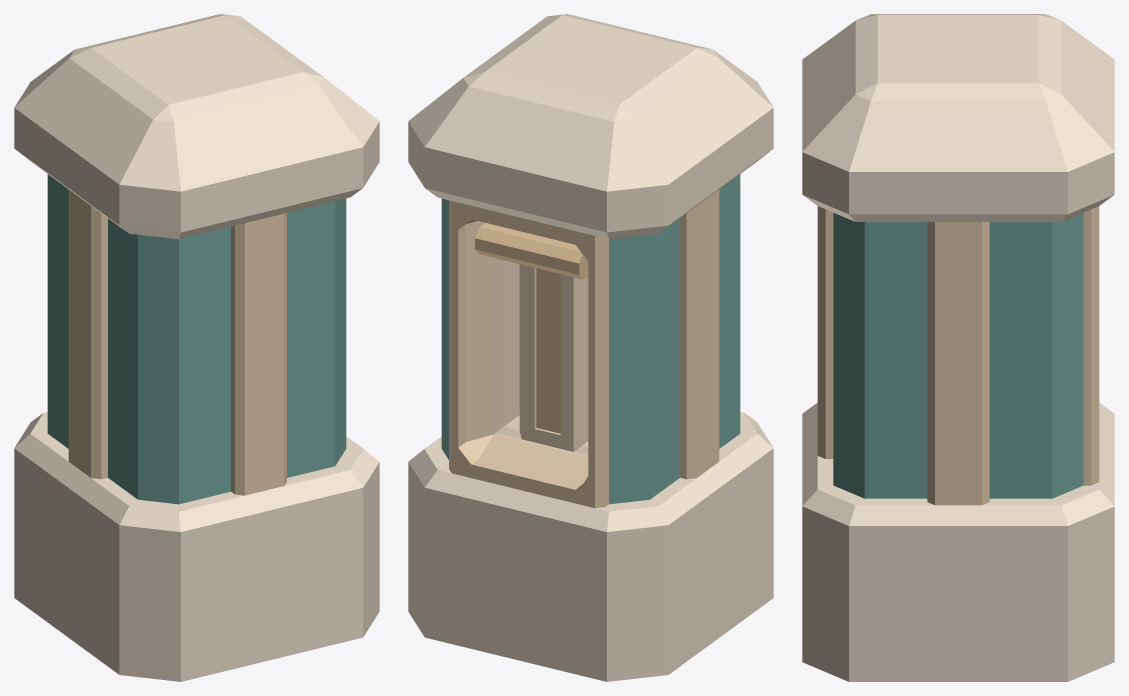
File: puzzle_rising_switch.glb
The picture shows the model from 3 angles, left to right: view 1: azimuth 30°, elevation 25°; view 2: azimuth 150°, elevation 25°; view 3: azimuth 270°, elevation 25°; orthographic projection. The views are drawn at different scales.
Parts seen in each view (by area): view 1: object3, object1; view 2: object3, object1, object2; view 3: object3, object1.
Boxes of the visible parts, x1=… form: object3: x1=14, y1=14, x2=379, y2=681; object1: x1=47, y1=174, x2=346, y2=504; object3: x1=408, y1=14, x2=773, y2=681; object1: x1=441, y1=174, x2=740, y2=504; object2: x1=475, y1=223, x2=588, y2=279; object3: x1=802, y1=14, x2=1114, y2=681; object1: x1=833, y1=213, x2=1083, y2=498.
Size of the model in its own units: 0.5 by 1 by 0.5.
